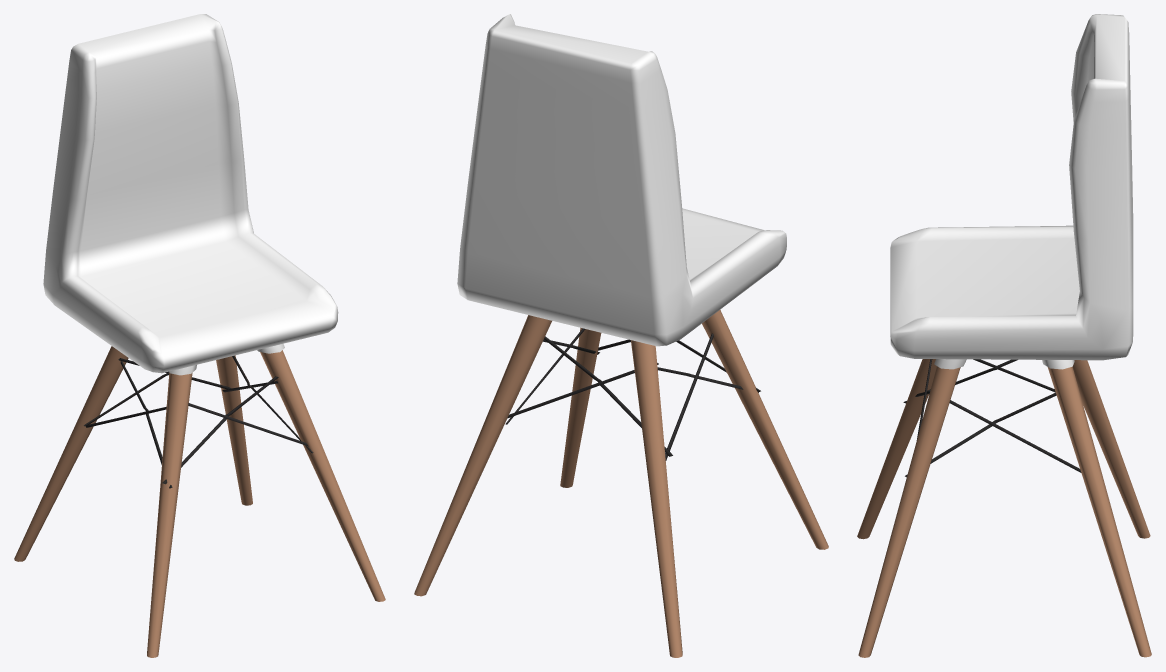
File: Nordic_Chair.glb
3 renders of one model, left to right at view 1: azimuth 30°, elevation 25°; view 2: azimuth 150°, elevation 25°; view 3: azimuth 270°, elevation 25°, orthographic. The views are drawn at different scales.
Parts seen in each view (by area): view 1: Nordic_Chair; view 2: Nordic_Chair; view 3: Nordic_Chair.
Boxes of the visible parts, left/top/right/bottom form: Nordic_Chair: left=14, top=14, right=385, bottom=657; Nordic_Chair: left=414, top=14, right=828, bottom=657; Nordic_Chair: left=857, top=14, right=1151, bottom=657.
Size of what is drawn, in the model's own units: 0.4017 by 0.8229 by 0.4017.
Materials: 1 (1 with a texture image).
